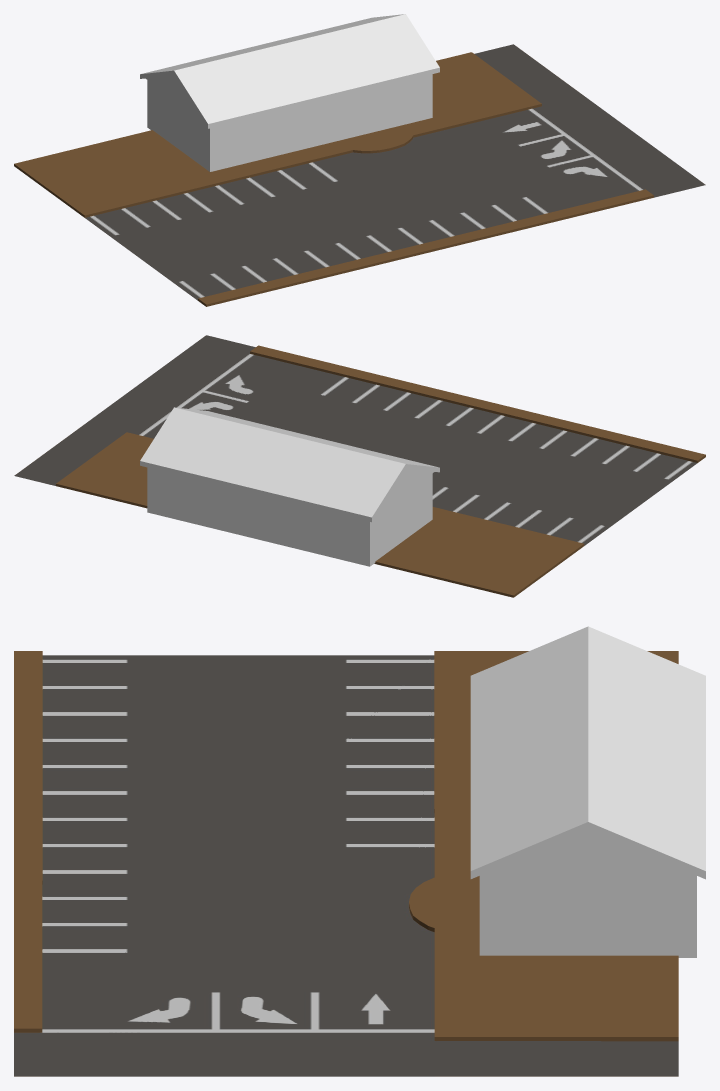
The model's file is parking-WIP-backup.glb.
3 views of the same model, one above another, from view 1: azimuth 30°, elevation 25°; view 2: azimuth 150°, elevation 25°; view 3: azimuth 270°, elevation 25° (orthographic). The views are drawn at different scales.
Visible parts, largest first — view 1: Parking Lot, Bar; view 2: Parking Lot, Bar; view 3: Parking Lot, Bar.
Boxes of the visible parts, x1=… form: Parking Lot: x1=14, y1=44, x2=705, y2=306; Bar: x1=140, y1=14, x2=439, y2=171; Parking Lot: x1=14, y1=335, x2=705, y2=597; Bar: x1=140, y1=407, x2=439, y2=566; Parking Lot: x1=14, y1=651, x2=678, y2=1076; Bar: x1=470, y1=626, x2=705, y2=957.
Bounding box in the file's own units: 110 × 17.21 × 76.11.
2 materials, 1 textured.
